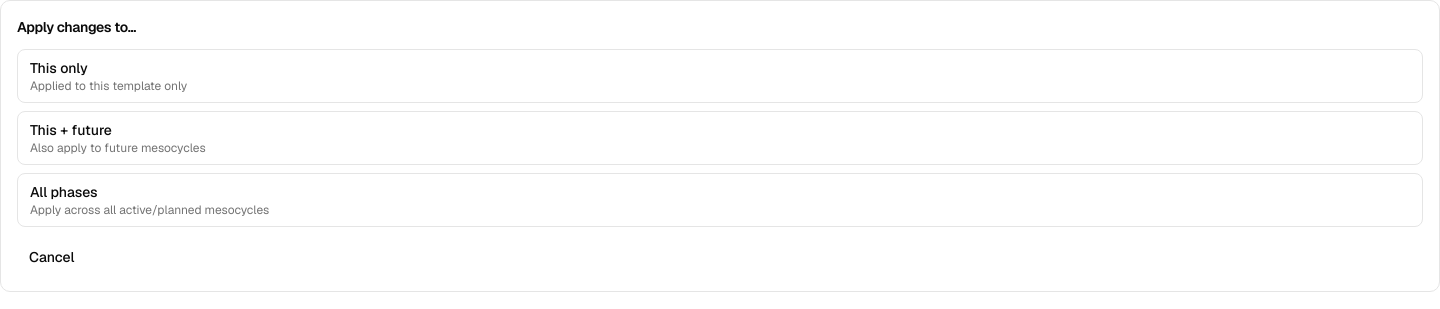
Test: SlotCascadeScopeSelector — characterization › confirm step display › shows "Apply to:" with scope label on confirm step
This screenshot has width=1440, height=309.
What coordinates should you click on to do the following:
click the text "This + future"
I would click on:
 (71, 130)
Its box is [30,120,112,140].
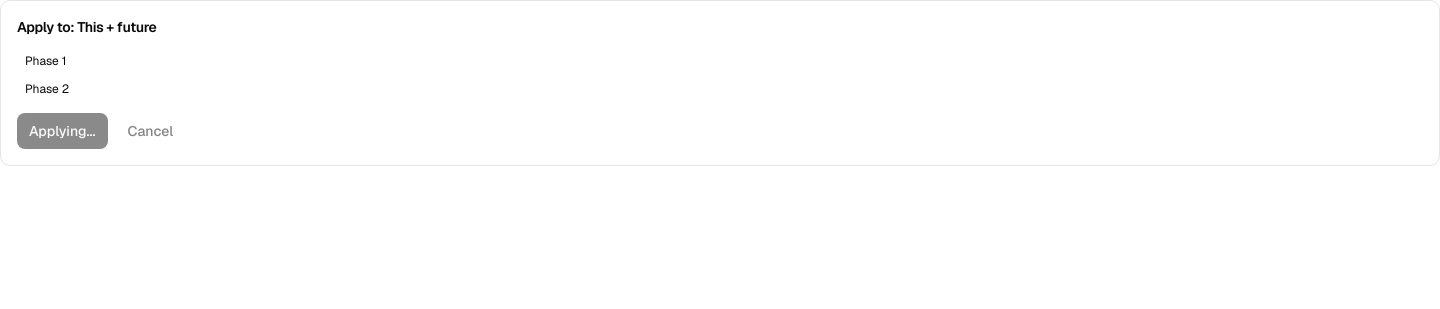
Check: the text "Apply to: This + future" is shown, box [17,18,156,36]
